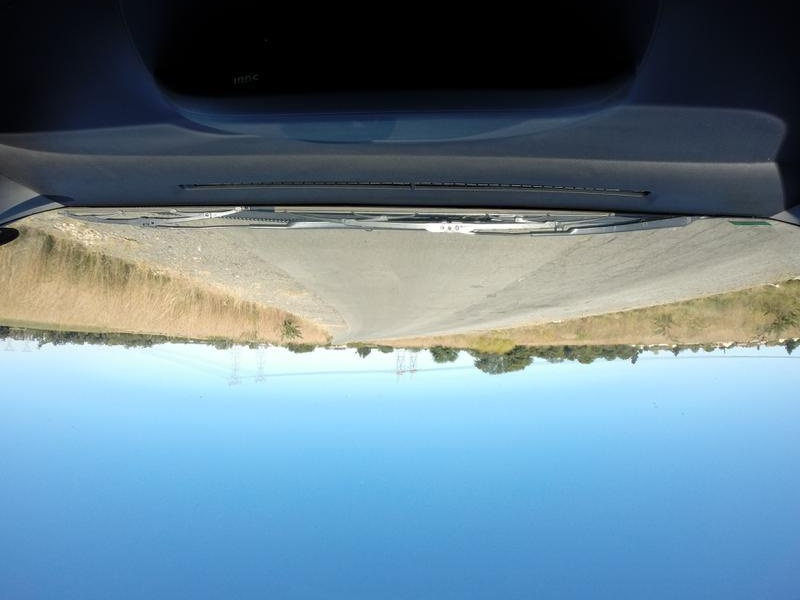pothole: (487, 292, 499, 300), (469, 283, 482, 288)
